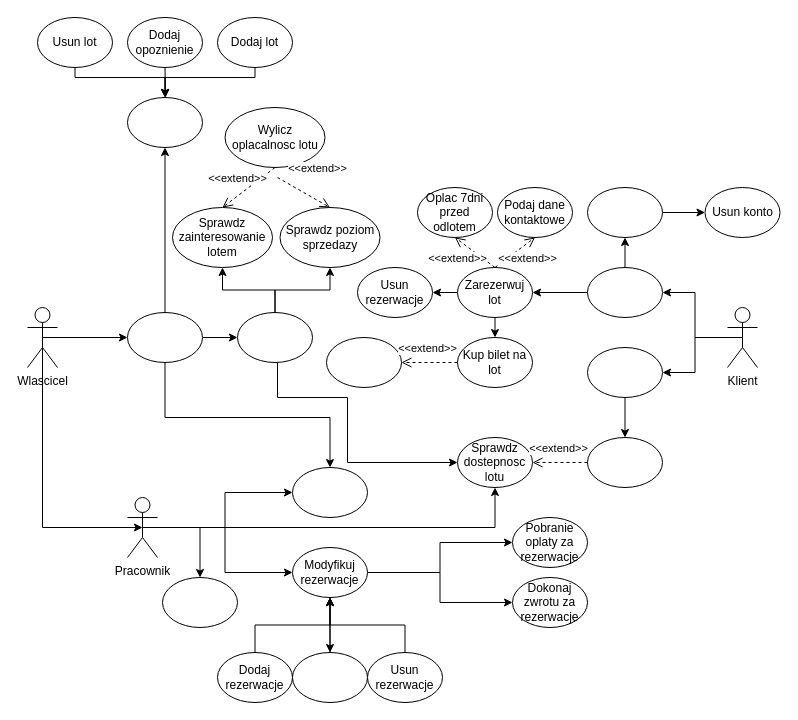
The diagram is 798 pixels wide and 720 high, and some of its shapes have lost their labels. The shapes that lost their labels are listed below. From the top down, each one's centre as x and y in pixels, then its label:
At point 164,122: "Modyfikuj lot".
At point 624,212: "Utworz konto".
At point 624,292: "Zaloguj".
At point 164,337: "Autoryzacja".
At point 274,337: "Sprawdz lot".
At point 364,362: "Wybierz metode platnosci".
At point 624,372: "Zaplanuj podroz".
At point 624,462: "Sprawdz polaczenie".
At point 330,492: "Wydaj komunikat".
At point 200,602: "Sprzedaz biletow na lotnisku".
At point 330,677: "Potwierdz rezerwacje".
